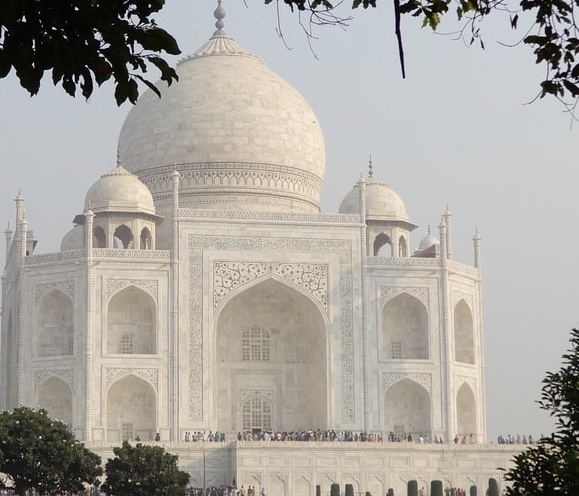Mosque: (25, 6, 493, 477)
